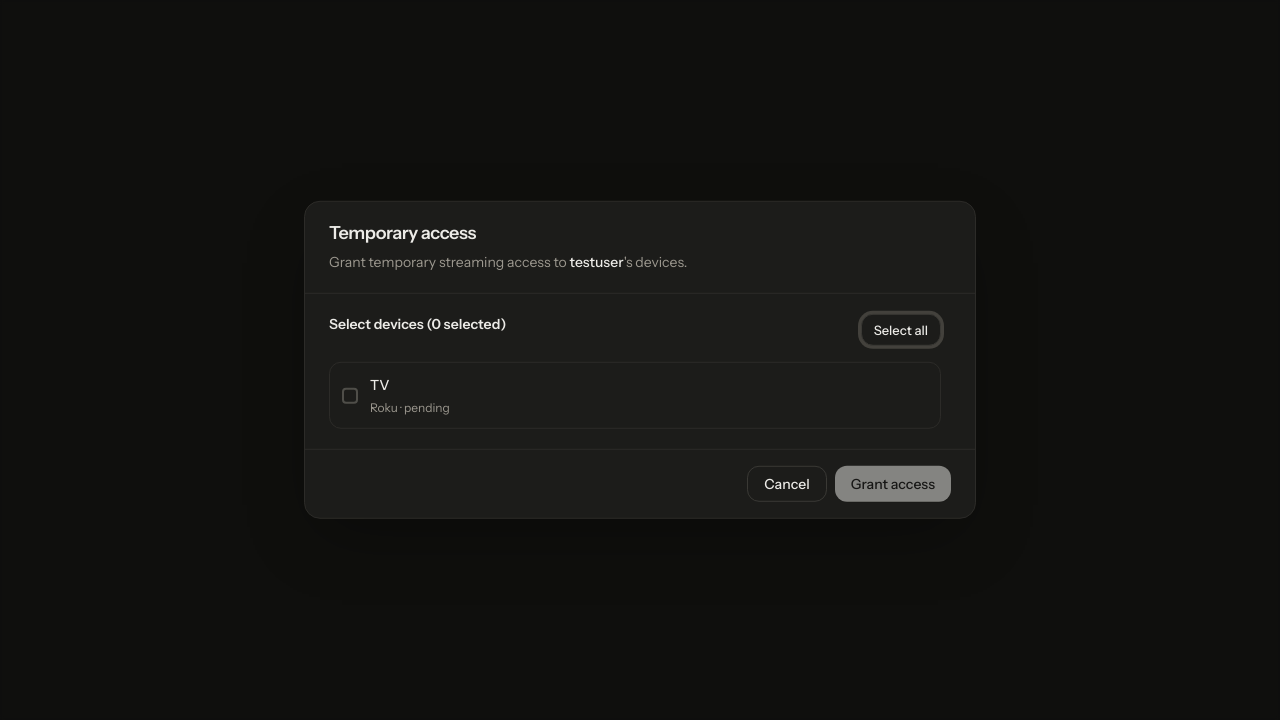
Test: TemporaryAccessModal › device selection › toggles a device off again
The width and height of the screenshot is (1280, 720).
Click the text "TV". click: (380, 385)
box: top-left (370, 376), bottom-right (389, 394)
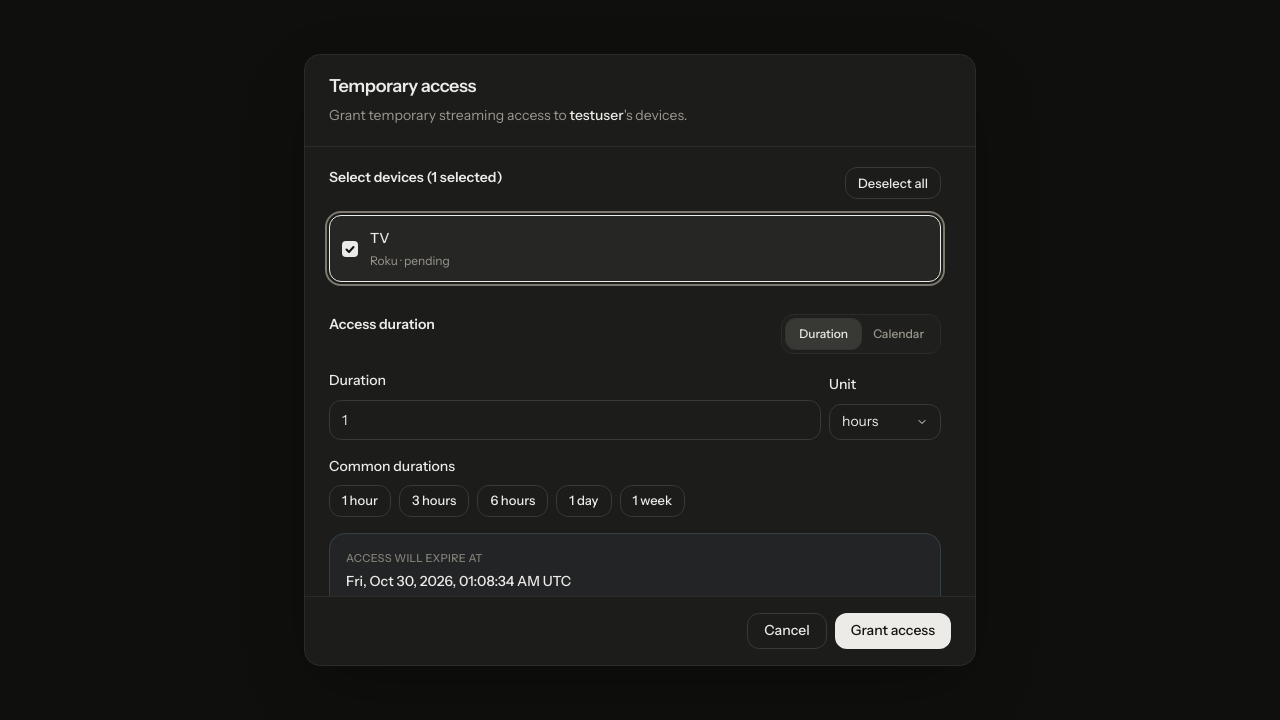
Click the text "TV". click: (380, 238)
box: top-left (370, 229), bottom-right (389, 247)
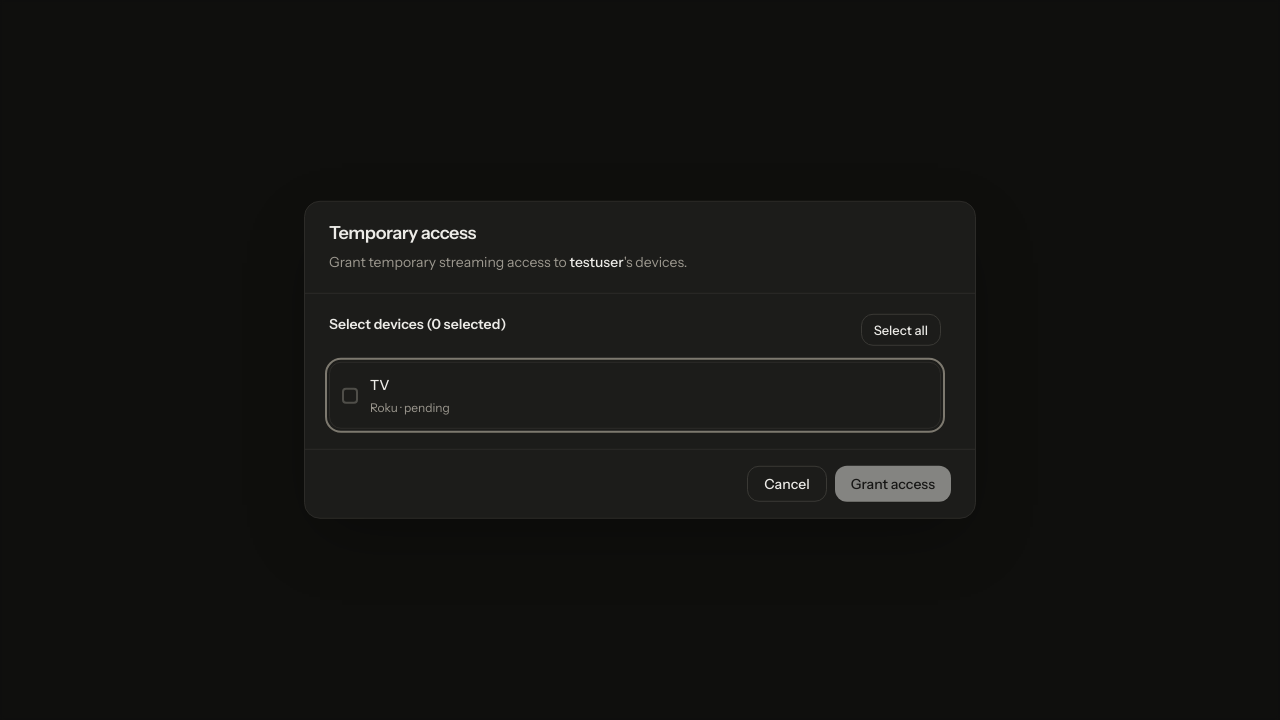
Now the heading "Select devices (0 selected)" is shown, box top-left (329, 314), bottom-right (506, 336)
